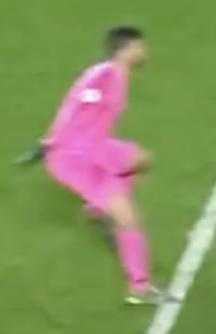goalkeeper: (7, 8, 216, 327)
